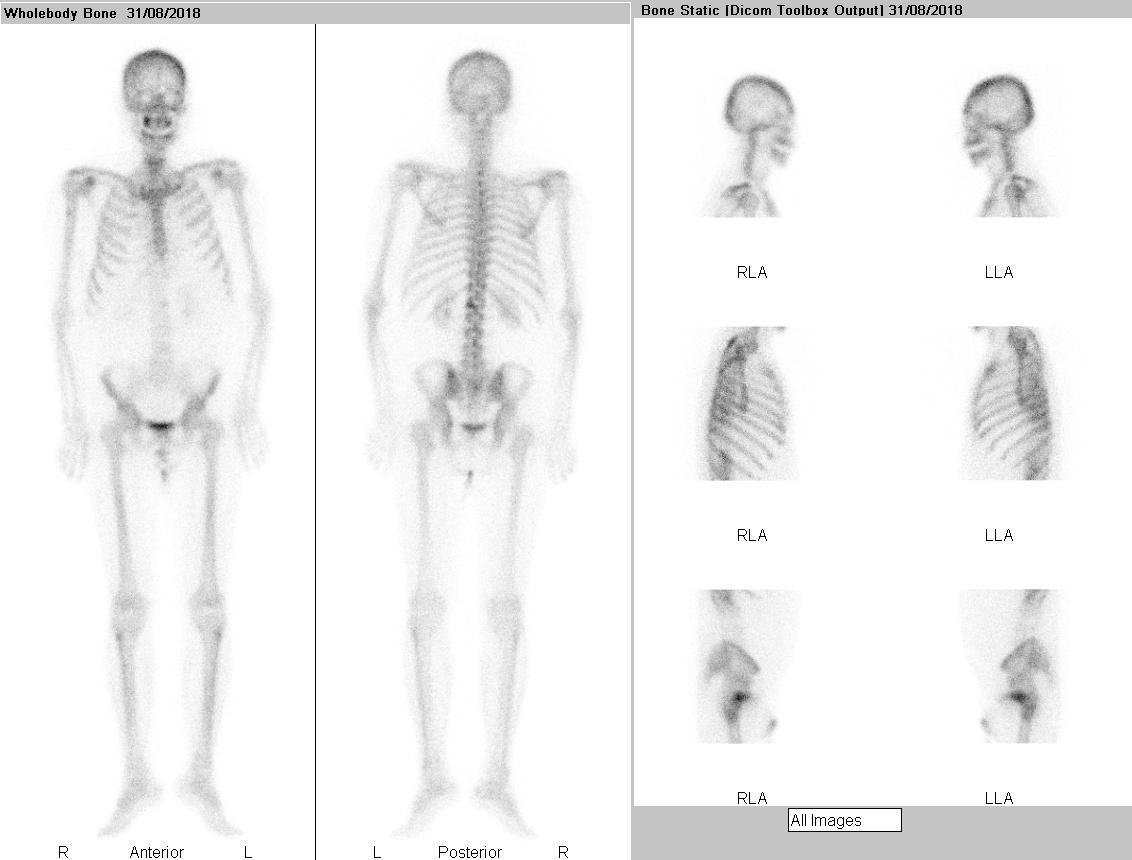person: (1, 26, 632, 859)
